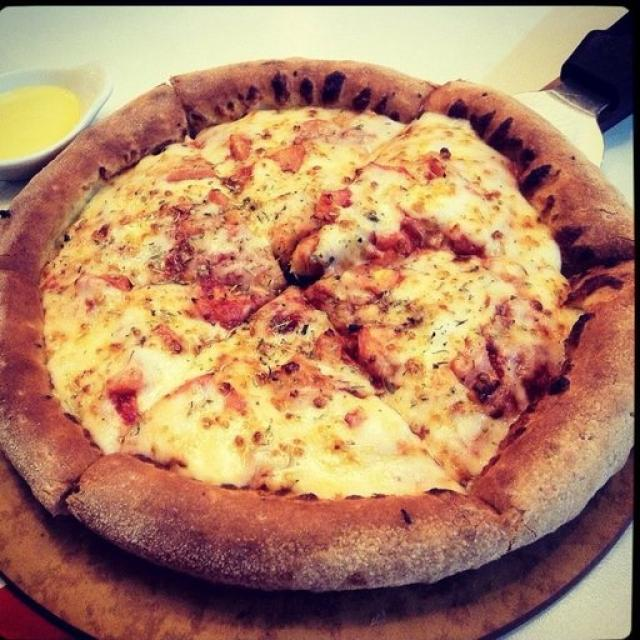Pizza: (0, 59, 630, 590)
